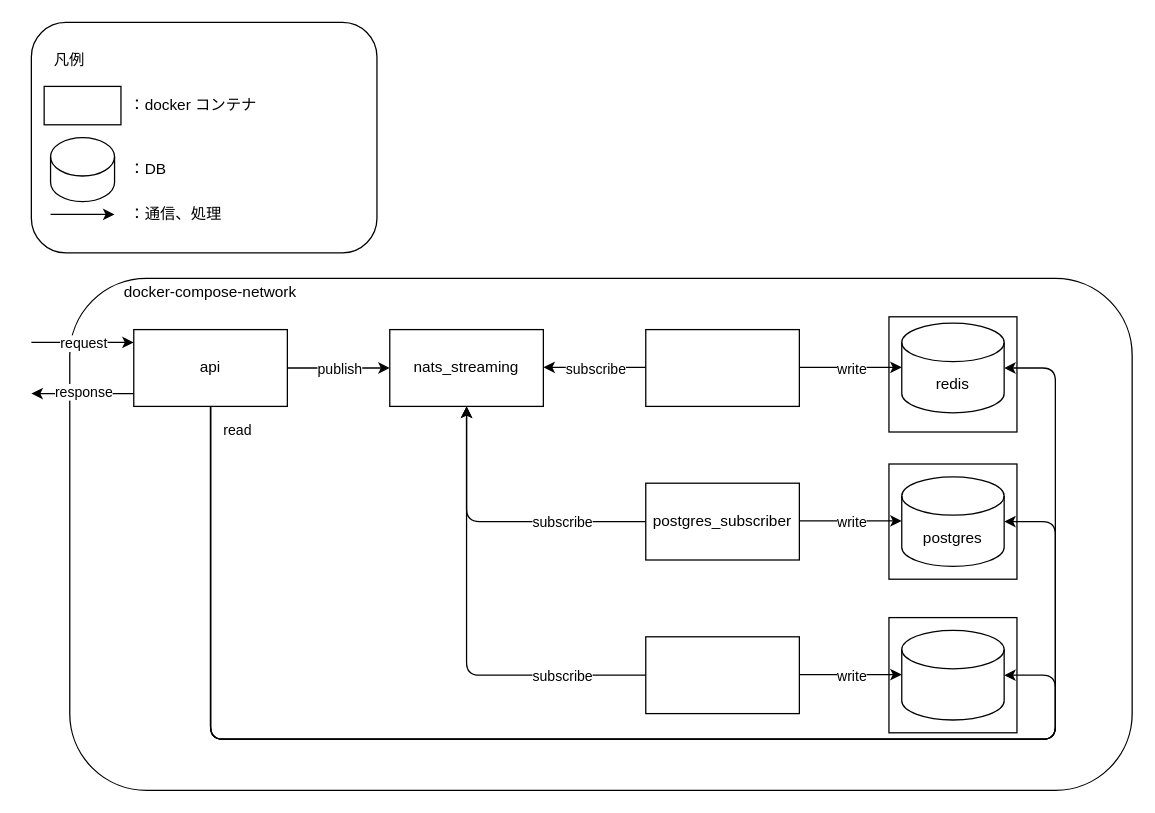
Image size: 1155x813. Some labels were removed from this diagram. Here are the shapes that lost their labels. From the top down, the centre of each, then its label:
point 721,367: redis_subscriber
point 721,675: mongo_subscriber
point 952,674: mongo
